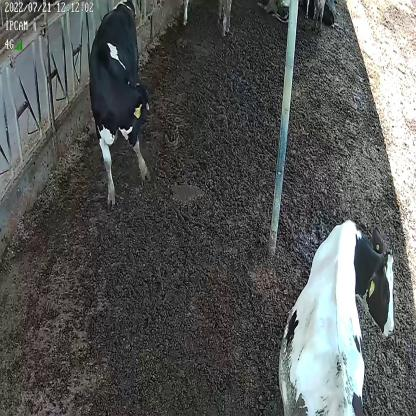cow: (280, 216, 396, 416), (89, 0, 152, 205)
